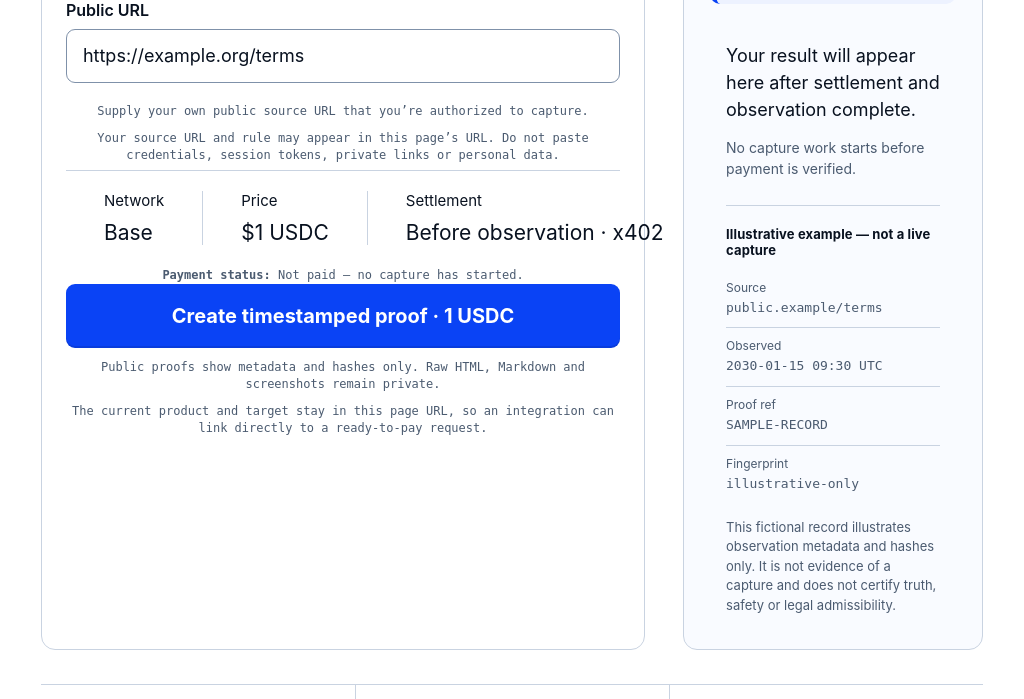
it: Base app incomplete paid requests › keeps incomplete HTTP 502 responses out of the proof renderer
This screenshot has width=1024, height=699.
(page scrolled)
Click the button "Create timestamped proof · 1 USDC": (343, 316) [66, 284, 620, 348]
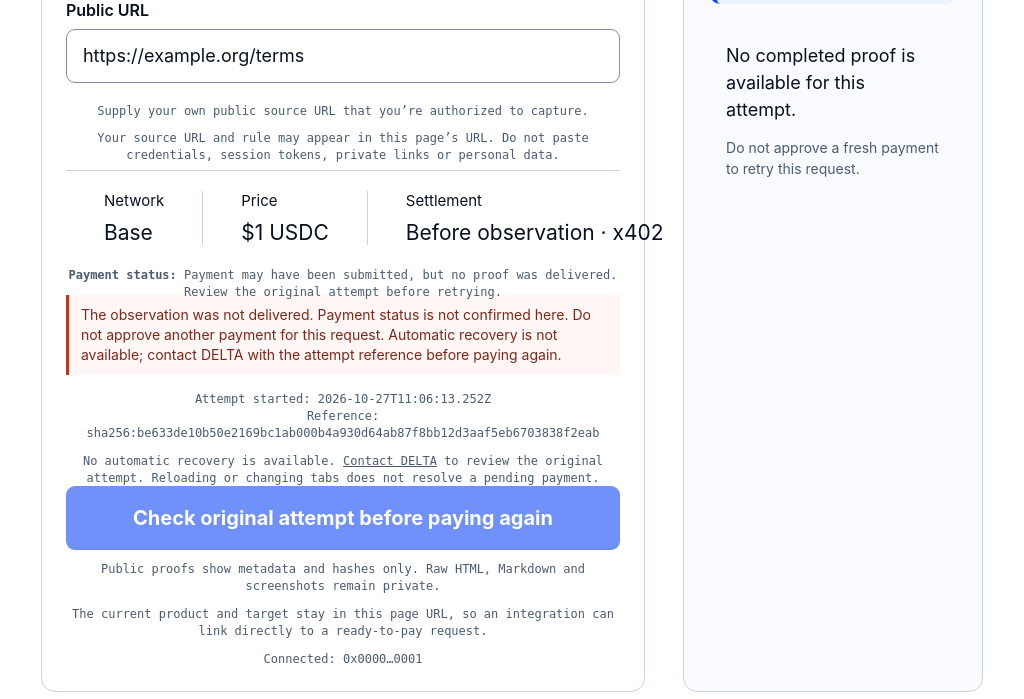
Now the element with class "result-status" no longer shows "READY"
Now the element with class "sample-proof" is gone
Now the text "Payment status is not confirmed" is shown, box [81, 306, 591, 363]
